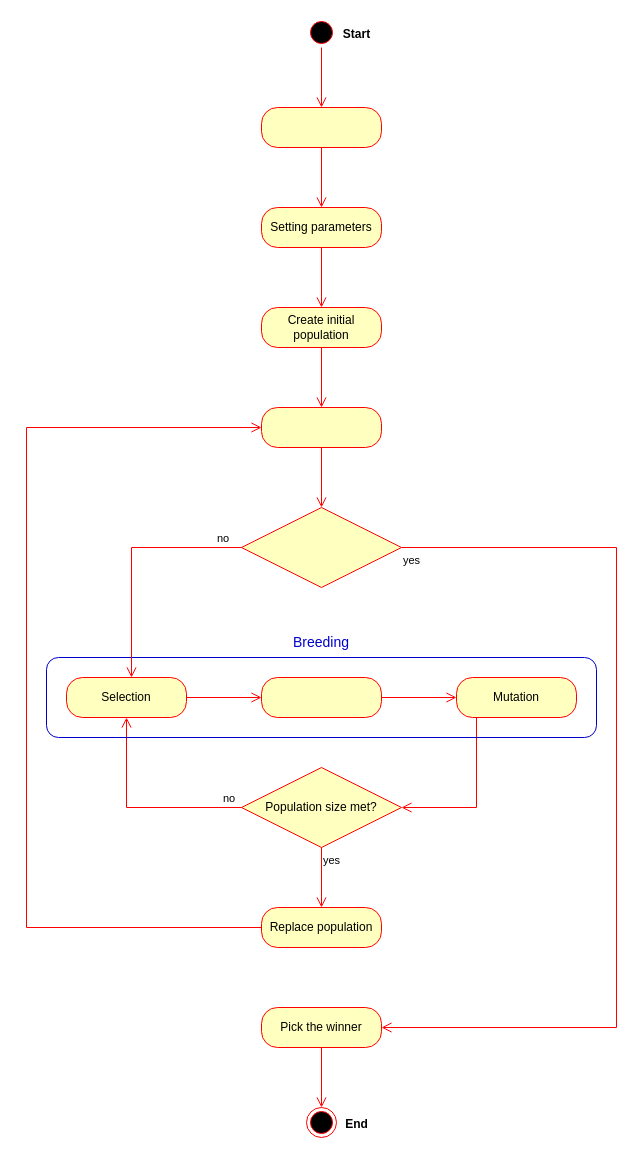
This 644x1155 diagram has some shape labels left out. Each missing label, with the centre of its shape:
Crossover: point (321, 697)
Fitness evaluation: point (321, 427)
Planning: point (321, 127)
Stopping condition met?: point (321, 547)
